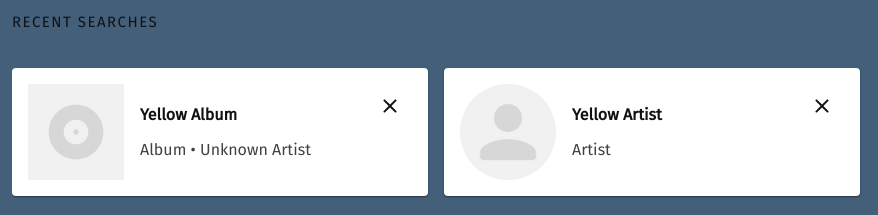
Test case: SearchHistory › removes a history entry when clicking remove button
The image size is (878, 215).
What coordinates should you click on to do the following:
click the button named "Remove from search history" next to "Yellow Artist"
I would click on:
 (822, 106)
Its box is x1=800 y1=84 x2=844 y2=128.
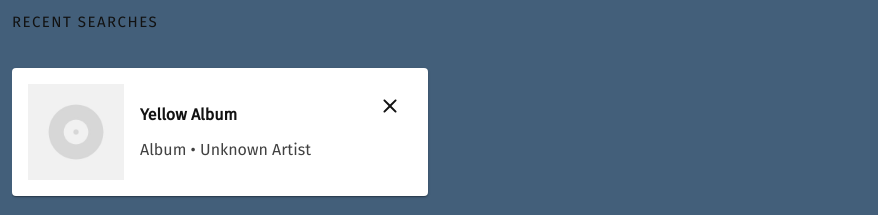
Expected: the link "Yellow Artist" is gone
